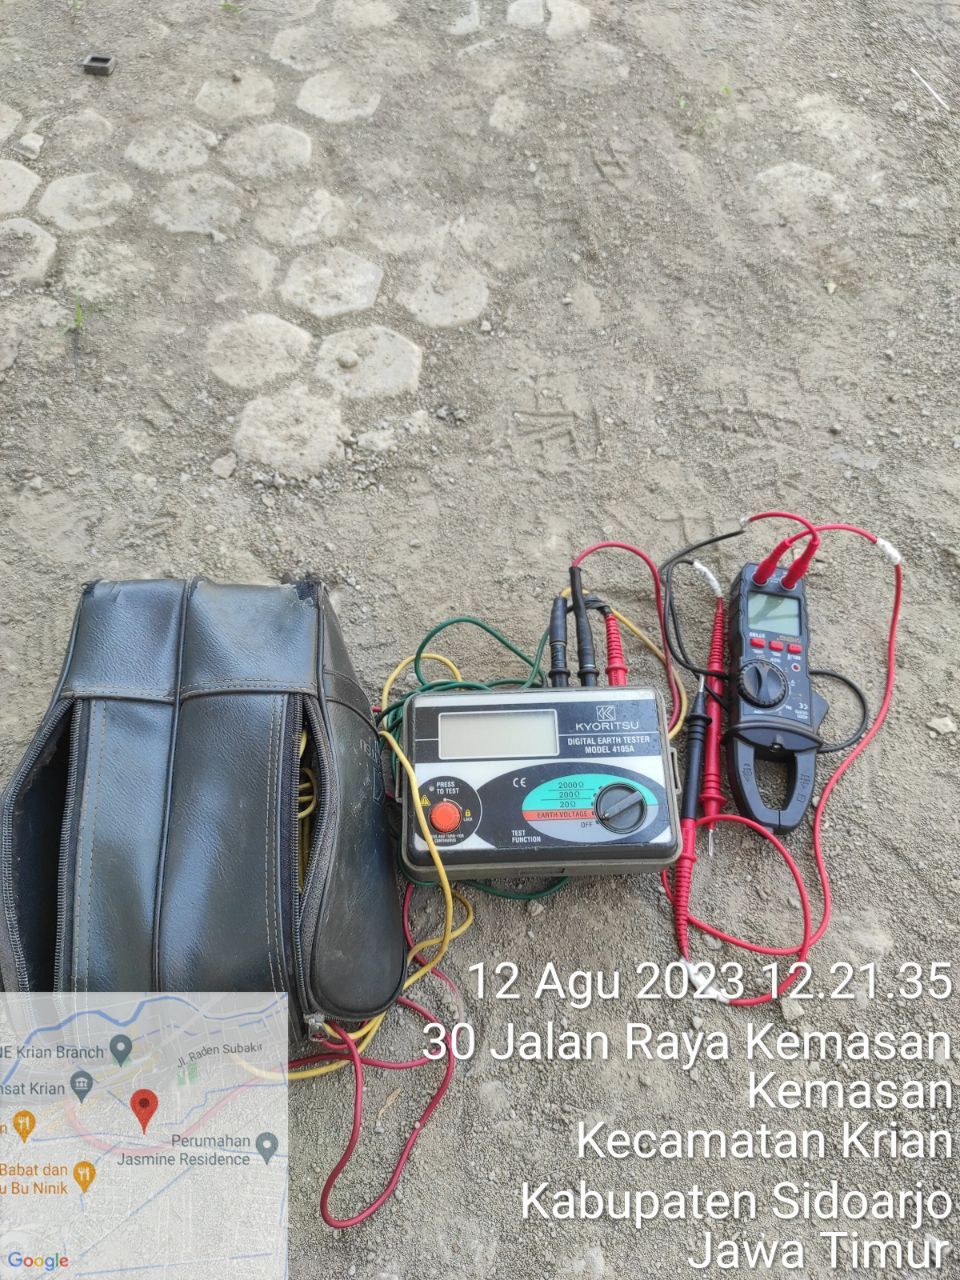EARTH_GROUNDING_TESTER: (396, 685, 684, 888)
TANG_AMPERE: (723, 561, 832, 833)
